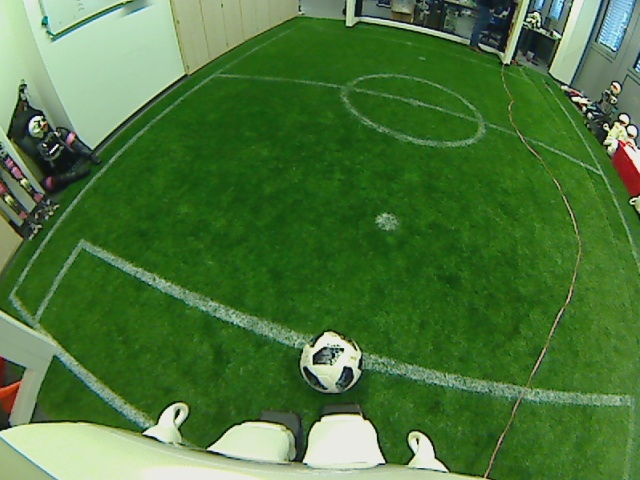ball: (299, 327, 363, 396)
